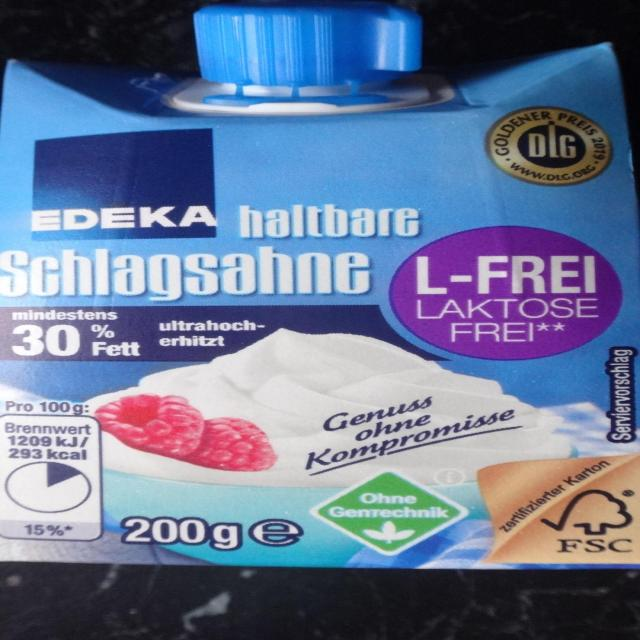cream: (0, 2, 638, 569)
